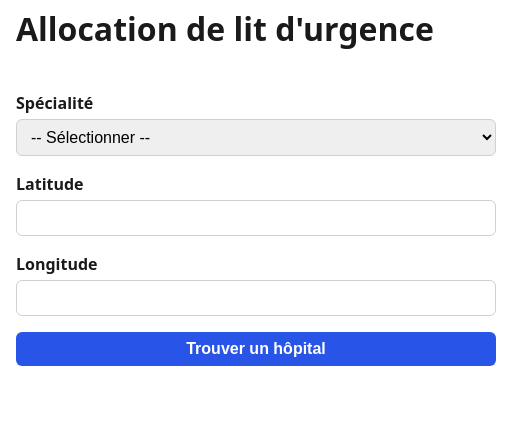
BedAllocationForm › affiche un message clair pour une requête invalide (400)
This screenshot has width=513, height=437.
Select "Cardiologie" in the dropdown labelled "Spécialité" at (256, 137), box [16,119,496,156]
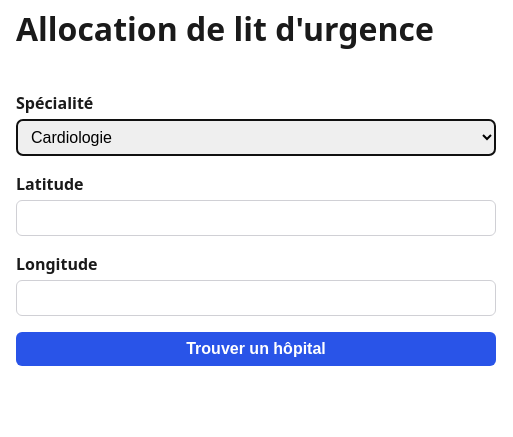
Type "999" into the number field labelled "Latitude" at (256, 218), box [16,200,496,236]
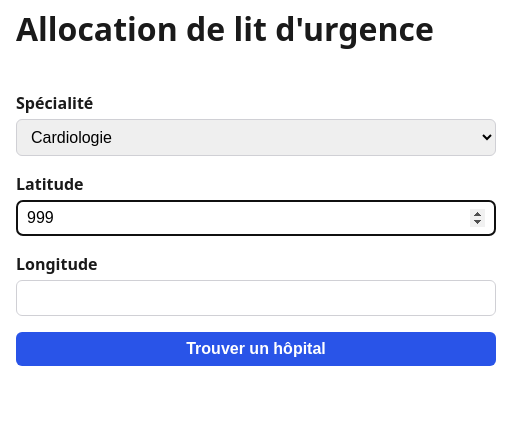
Type "2.3522" into the number field labelled "Longitude" at (256, 298), box [16,280,496,316]
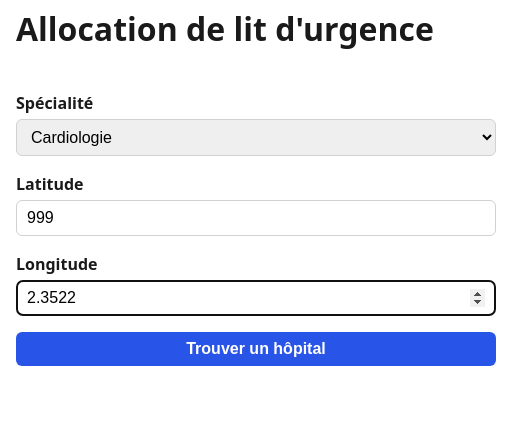
Click the button "Trouver un hôpital" at (256, 349), box [16,332,496,366]
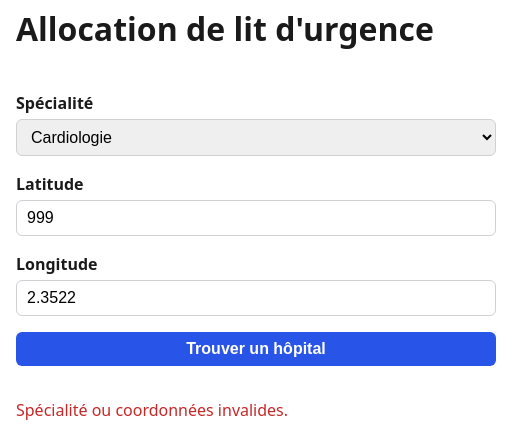
Now the message shows "invalide", box [16,399,288,421]
